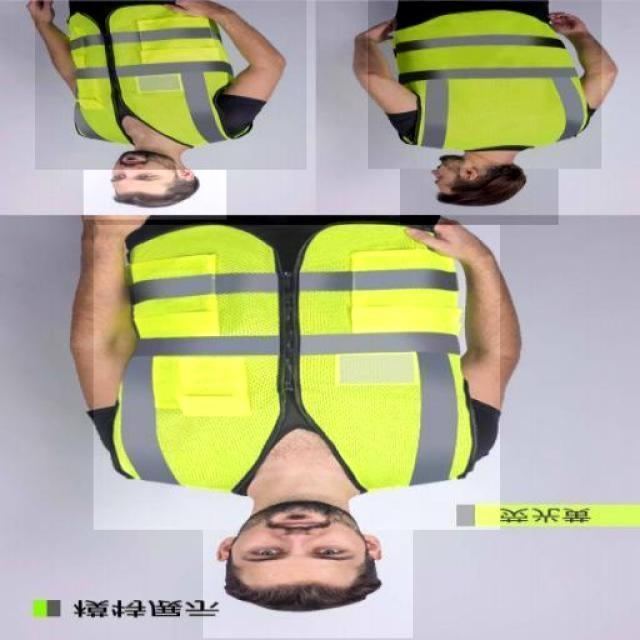Helmet: (204, 476, 414, 638), (400, 143, 558, 225), (84, 146, 226, 220)
Safety Vest: (94, 225, 500, 530), (35, 0, 307, 170), (368, 0, 602, 169)
